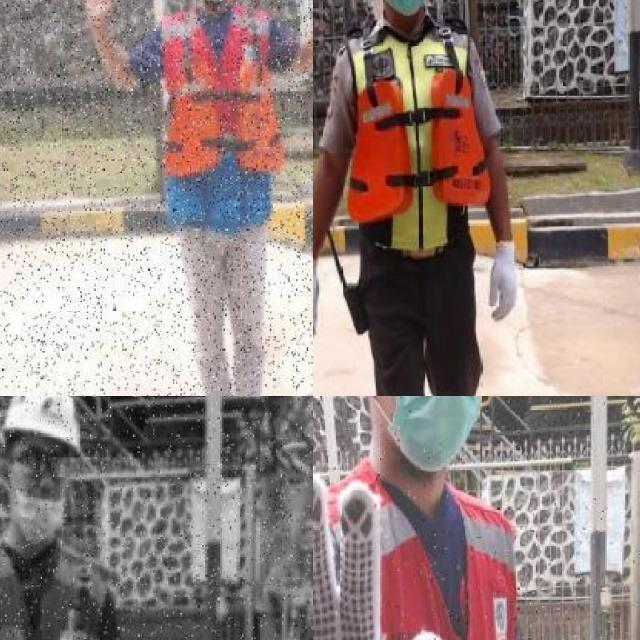apron: (313, 474, 440, 640), (485, 241, 521, 323), (313, 251, 322, 332)
